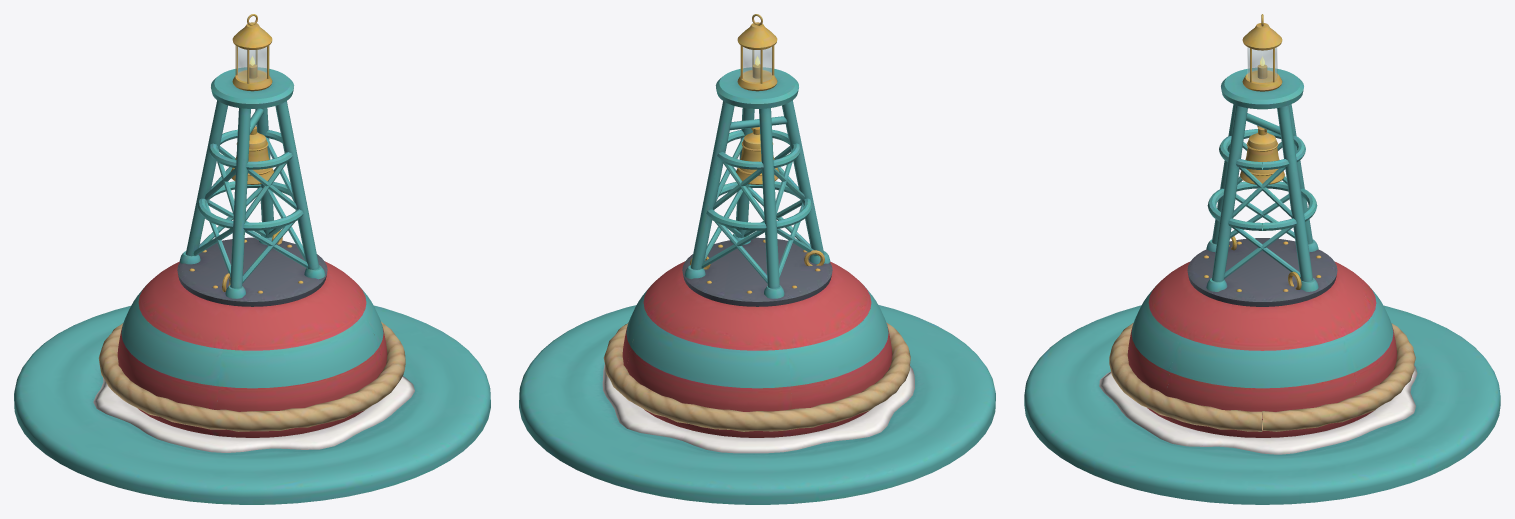
The model's file is boya.glb.
The picture shows the model from 3 angles, left to right: view 1: azimuth 30°, elevation 25°; view 2: azimuth 150°, elevation 25°; view 3: azimuth 270°, elevation 25°; orthographic projection.
Visible parts, largest first — view 1: buoy_body; view 2: buoy_body; view 3: buoy_body.
Boxes of the visible parts, x1=… form: buoy_body: x1=14, y1=14, x2=490, y2=504; buoy_body: x1=519, y1=14, x2=995, y2=504; buoy_body: x1=1024, y1=14, x2=1500, y2=504.
Size of the model in its own units: 2 by 1.8 by 2.
Materials: 4 (1 with a texture image).
